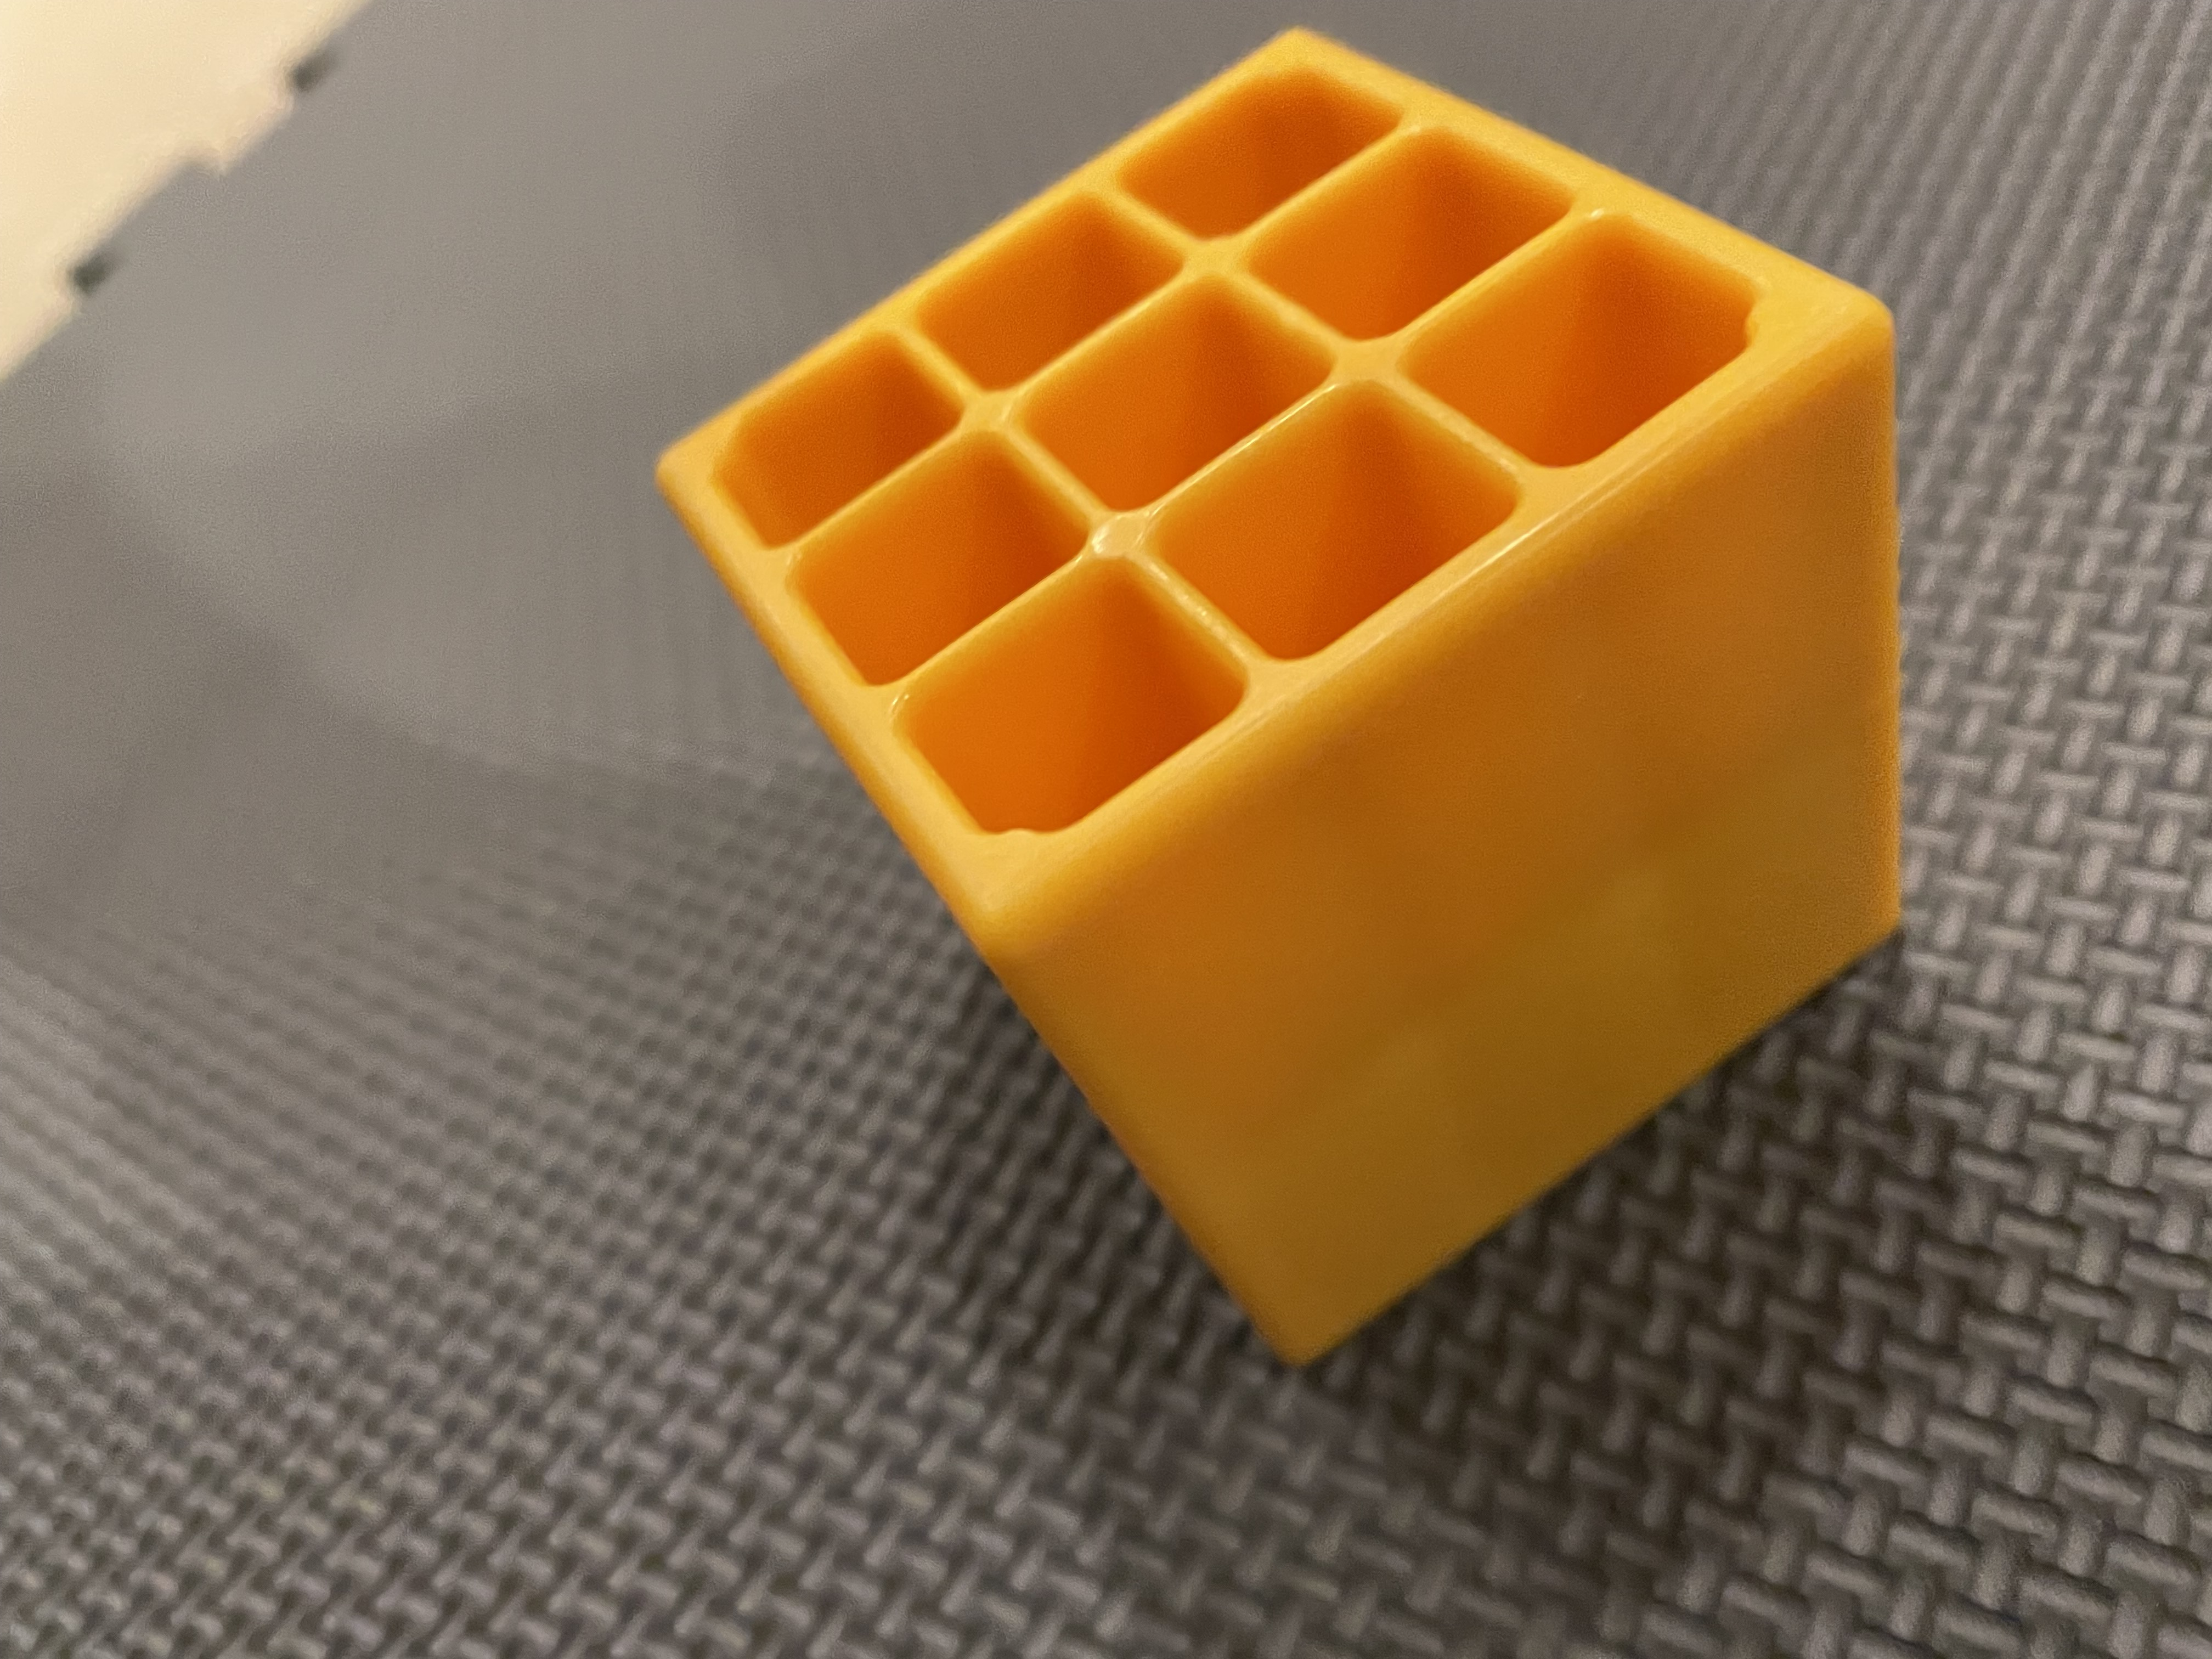cube: (592, 16, 1961, 1420)
